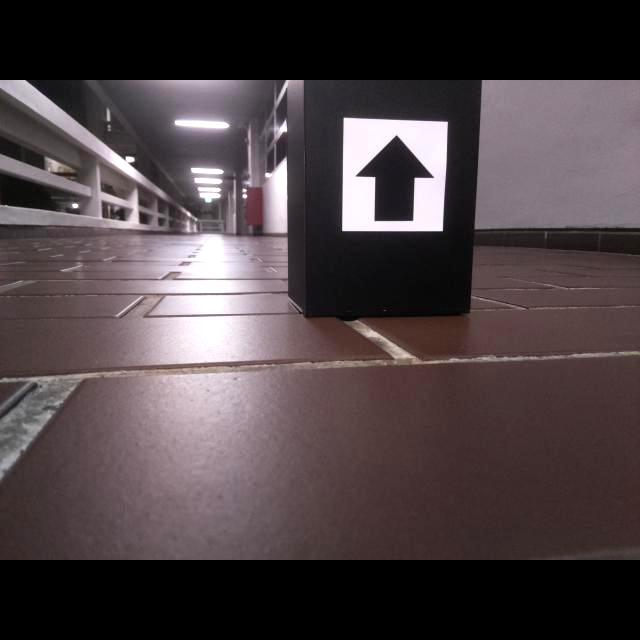UP: (354, 134, 435, 222)
